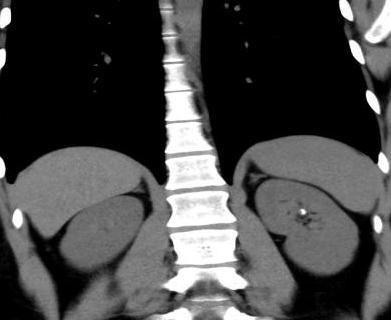Tas_Var: (301, 210, 307, 216), (301, 208, 304, 212)
